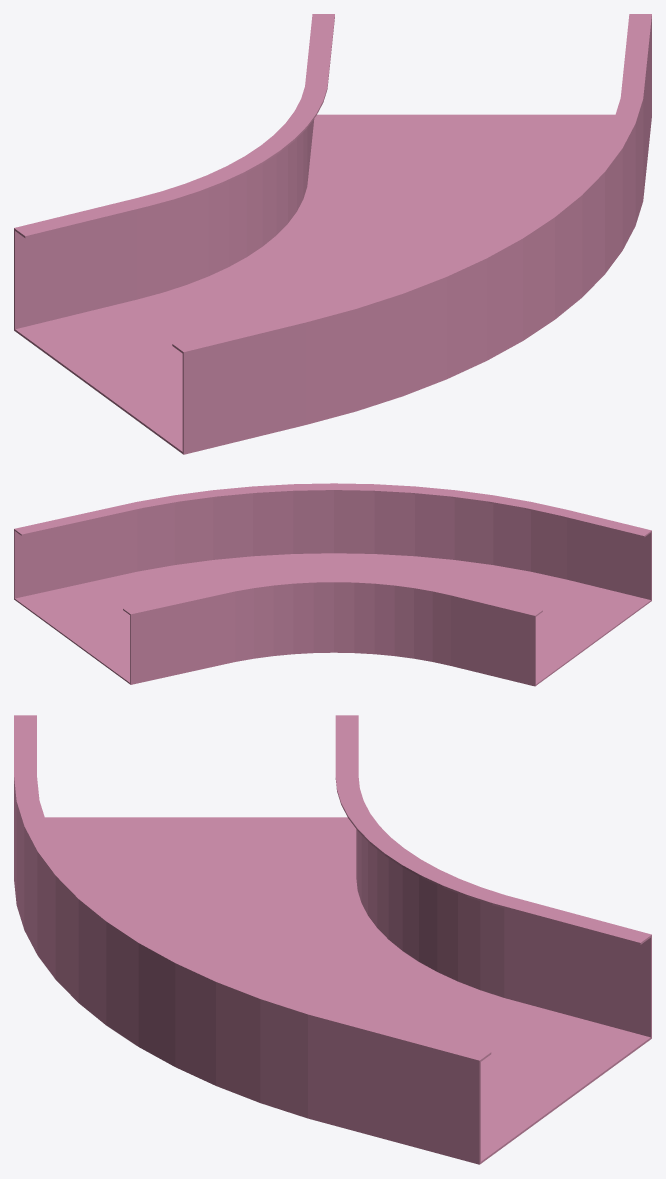
File: elbow60.glb
3 views of the same model, one above another, from view 1: azimuth 30°, elevation 25°; view 2: azimuth 150°, elevation 25°; view 3: azimuth 270°, elevation 25° (orthographic). The views are drawn at different scales.
Visible parts, largest first — view 1: Mesh_Mesh_head_geo.001_lambert2SG.001; view 2: Mesh_Mesh_head_geo.001_lambert2SG.001; view 3: Mesh_Mesh_head_geo.001_lambert2SG.001.
Boxes of the visible parts, x1=… form: Mesh_Mesh_head_geo.001_lambert2SG.001: x1=14, y1=14, x2=651, y2=454; Mesh_Mesh_head_geo.001_lambert2SG.001: x1=14, y1=483, x2=651, y2=686; Mesh_Mesh_head_geo.001_lambert2SG.001: x1=14, y1=715, x2=651, y2=1164.
Size of the model in its own units: 71.18 by 10 by 55.54.
